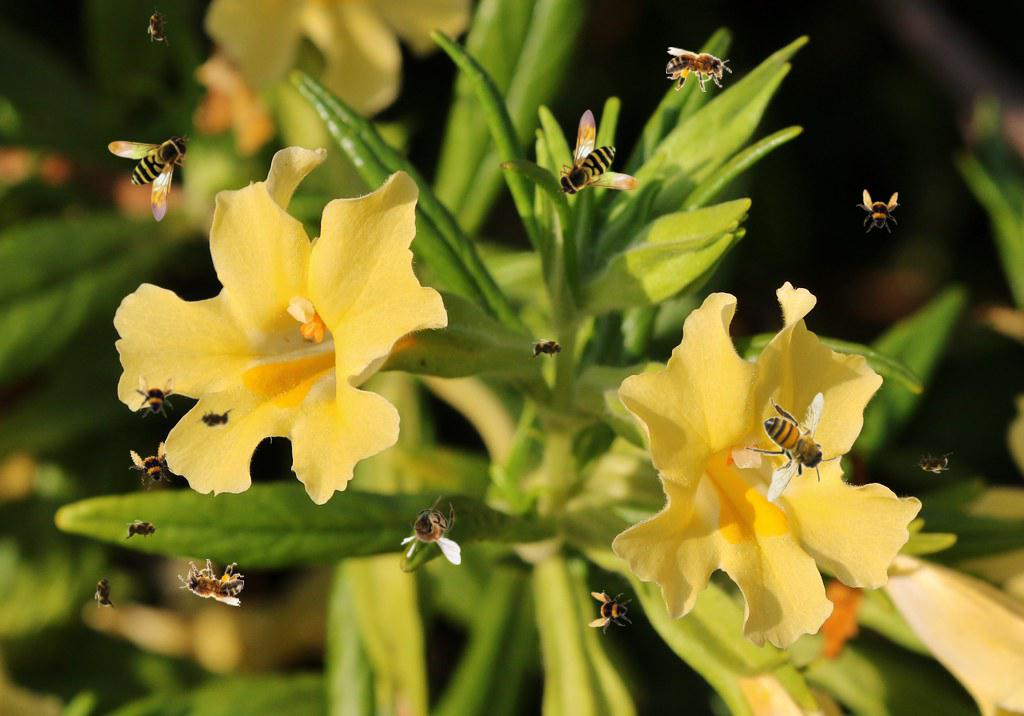Bee: (744, 392, 838, 503), (108, 134, 190, 222), (557, 109, 639, 197), (400, 495, 461, 565), (176, 556, 246, 607), (122, 437, 180, 495), (666, 47, 732, 92), (856, 189, 900, 233), (132, 374, 176, 418), (588, 590, 632, 634), (913, 452, 953, 474), (94, 572, 116, 612), (147, 6, 169, 46), (122, 519, 162, 541), (528, 338, 568, 360), (195, 408, 235, 430)
